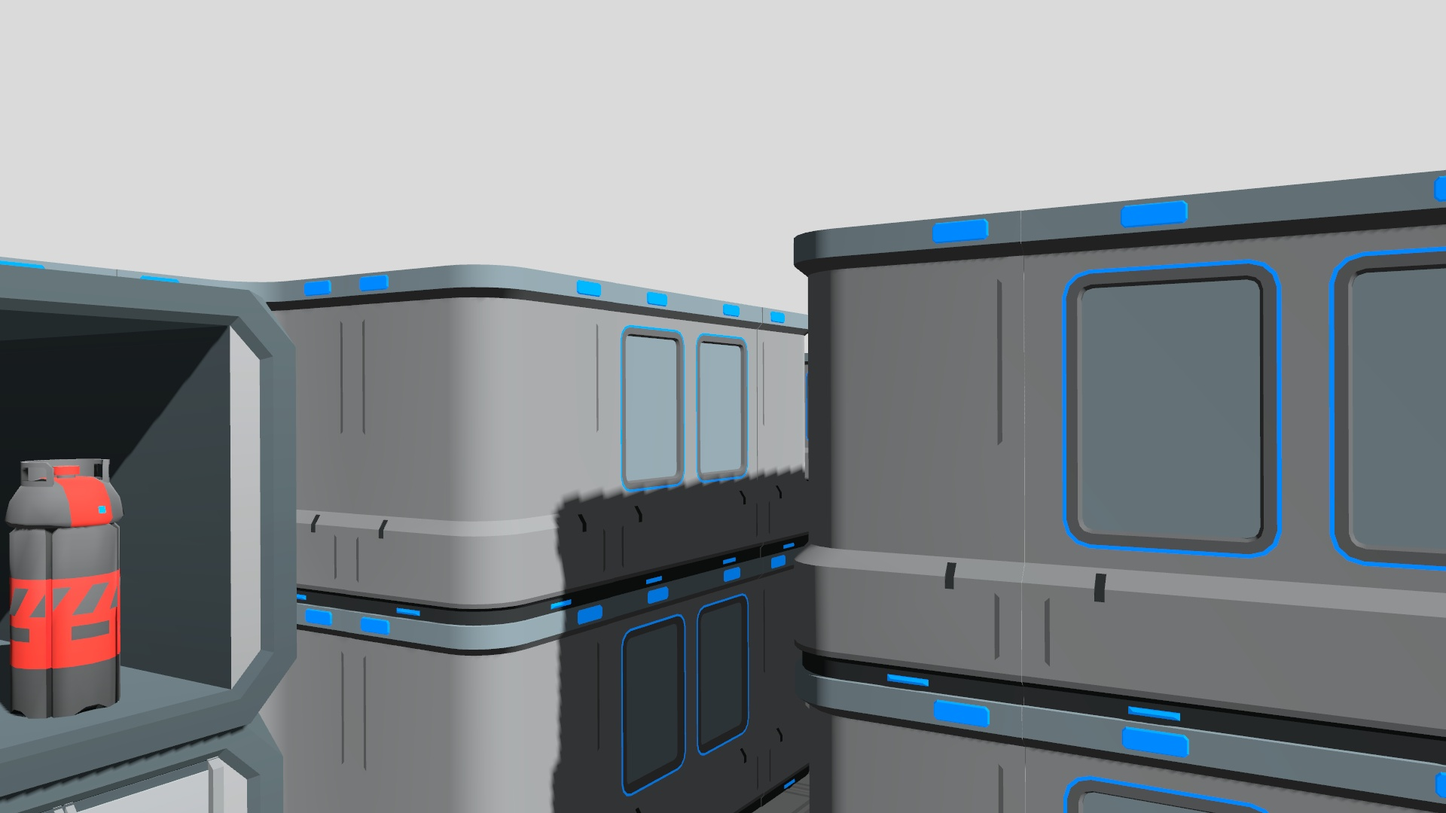red_barrel: (0, 449, 127, 725)
